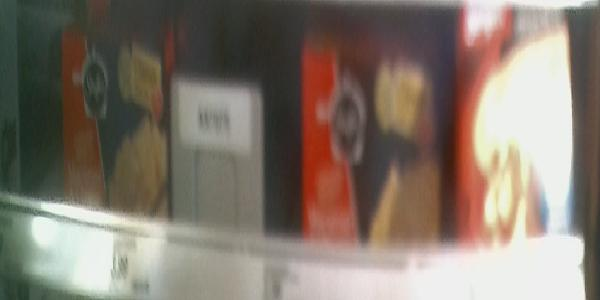pizza1: (304, 1, 447, 253), (455, 2, 583, 243), (61, 2, 176, 225)
